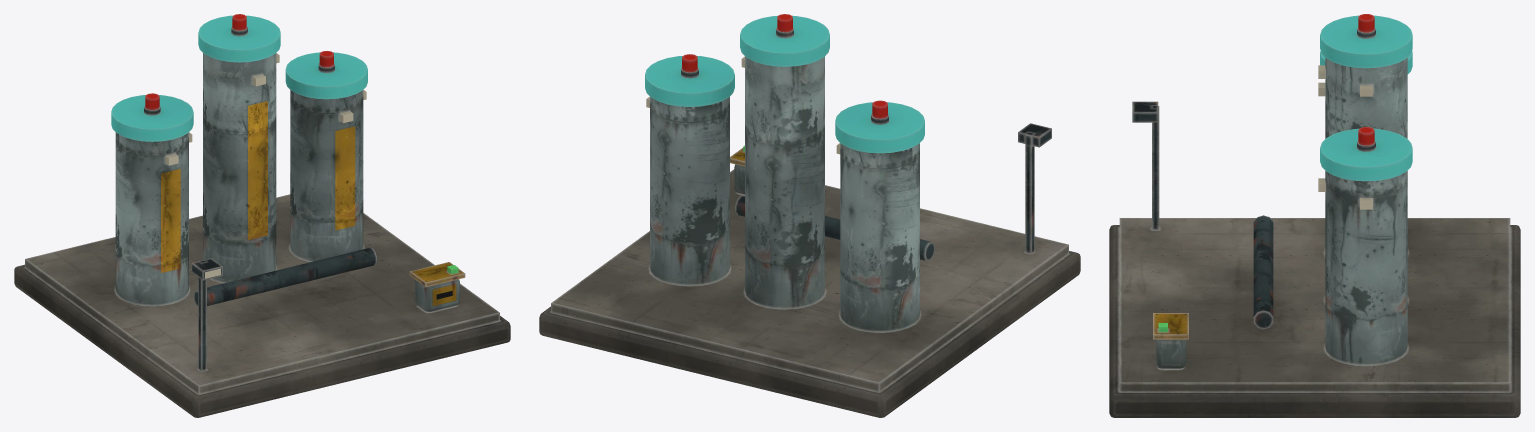
File: atmospheric_processor.glb
3 renders of one model, left to right at view 1: azimuth 30°, elevation 25°; view 2: azimuth 150°, elevation 25°; view 3: azimuth 270°, elevation 25°, orthographic. The views are drawn at different scales.
Parts seen in each view (by area): view 1: te_atmospheric_processor; view 2: te_atmospheric_processor; view 3: te_atmospheric_processor.
Boxes of the visible parts, left/top/right/bottom form: te_atmospheric_processor: left=14, top=14, right=510, bottom=417; te_atmospheric_processor: left=539, top=14, right=1080, bottom=417; te_atmospheric_processor: left=1109, top=14, right=1520, bottom=417.
Size of the model in its own units: 0.8 by 0.6776 by 0.8.
Materials: 1 (1 with a texture image).
